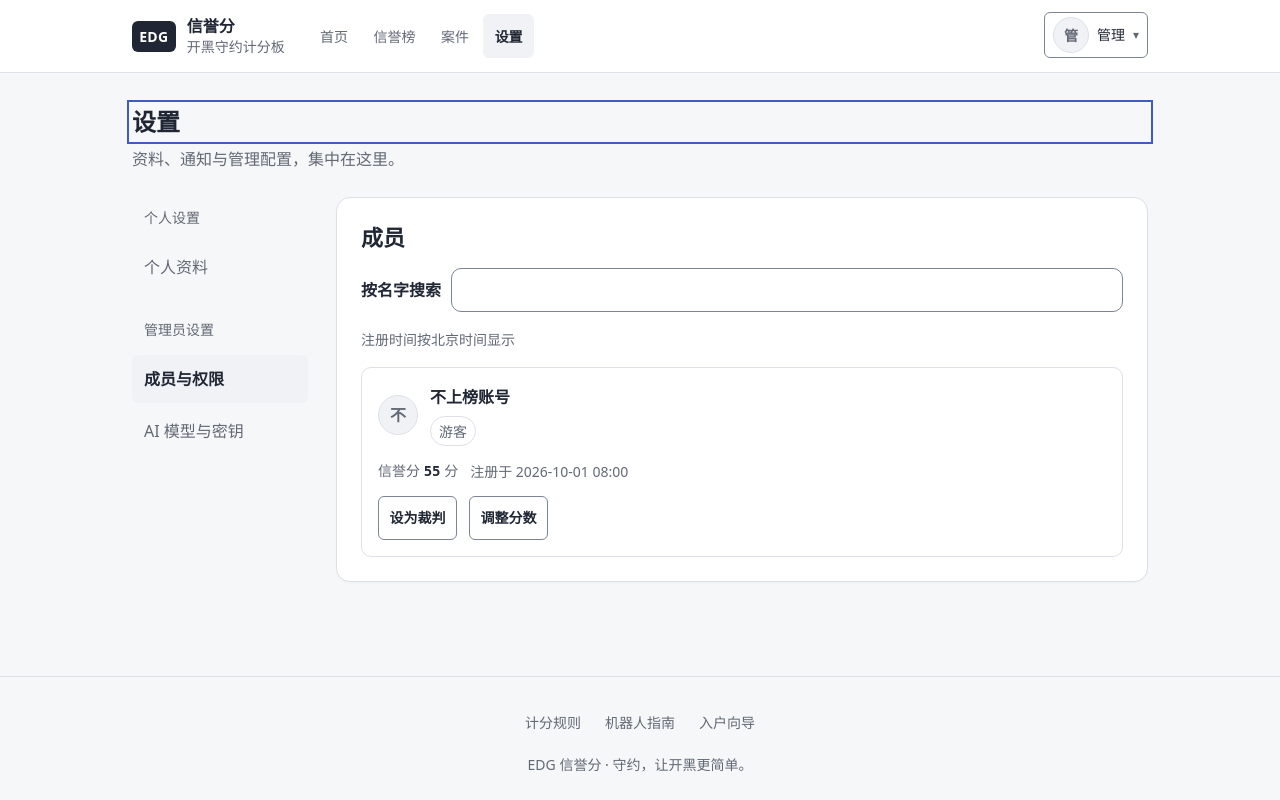
Test: members page inside App › refreshes records, board and me after a member score change
Check: the text "不上榜账号" is shown, box x1=430 y1=384 x2=510 y2=411
Click the link "调整分数".
click(508, 518)  # box x1=469 y1=496 x2=548 y2=540
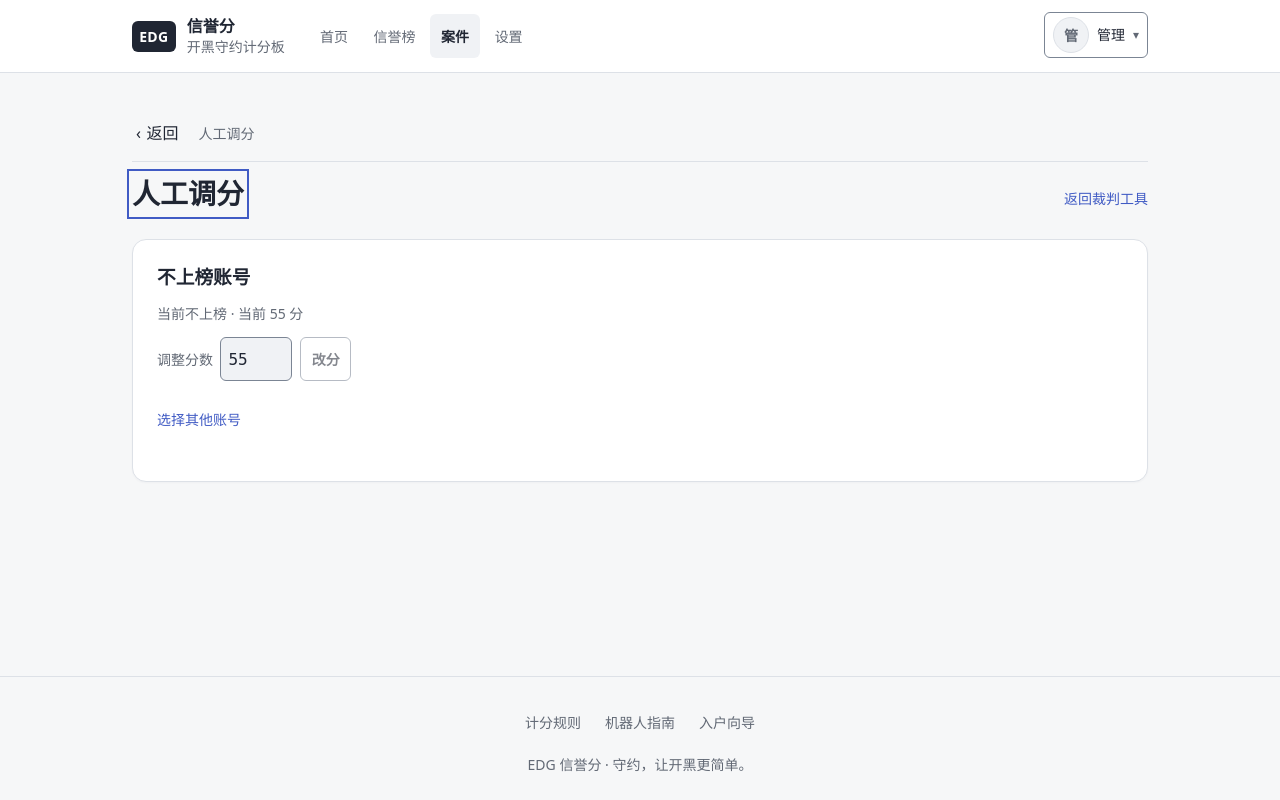
Replace the text in the number field labelled "调整分数" with "75" at (256, 359), box x1=220 y1=337 x2=292 y2=381
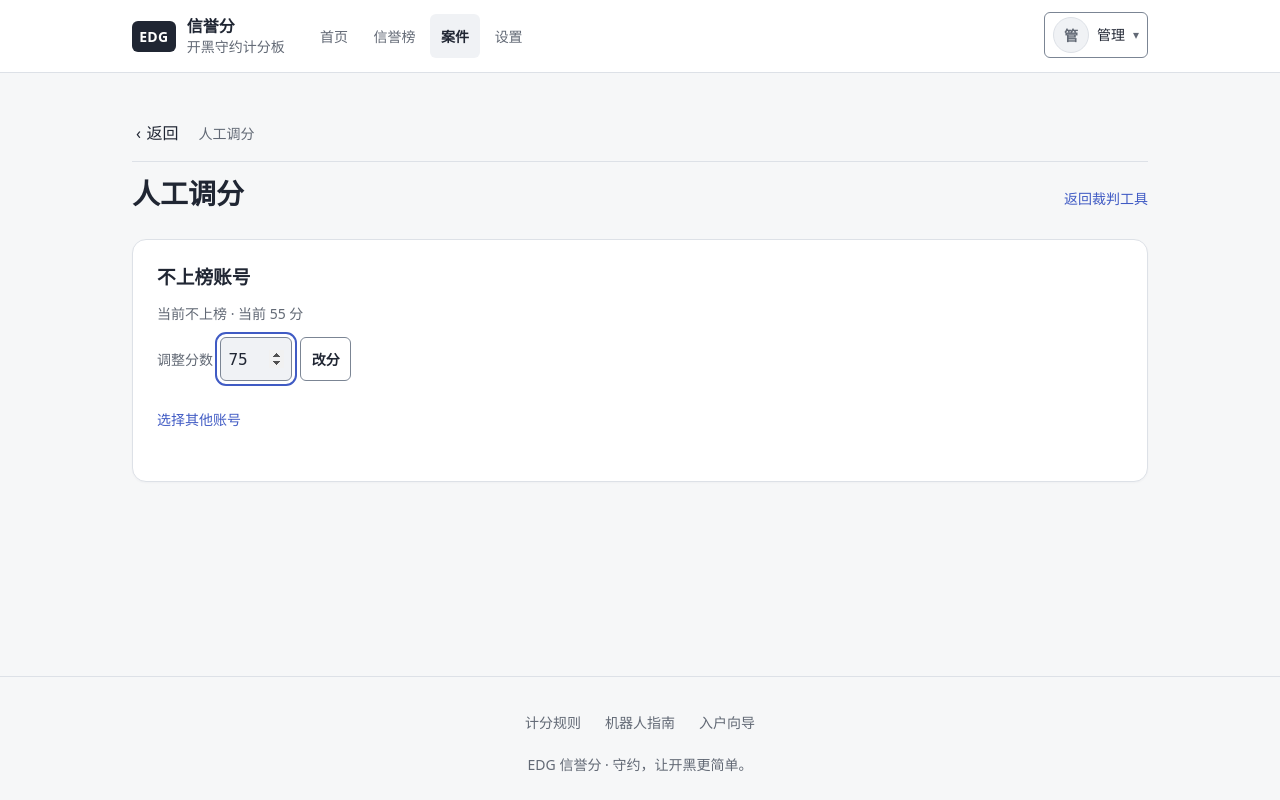
Click the button "改分".
click(326, 359)  # box x1=300 y1=337 x2=351 y2=381
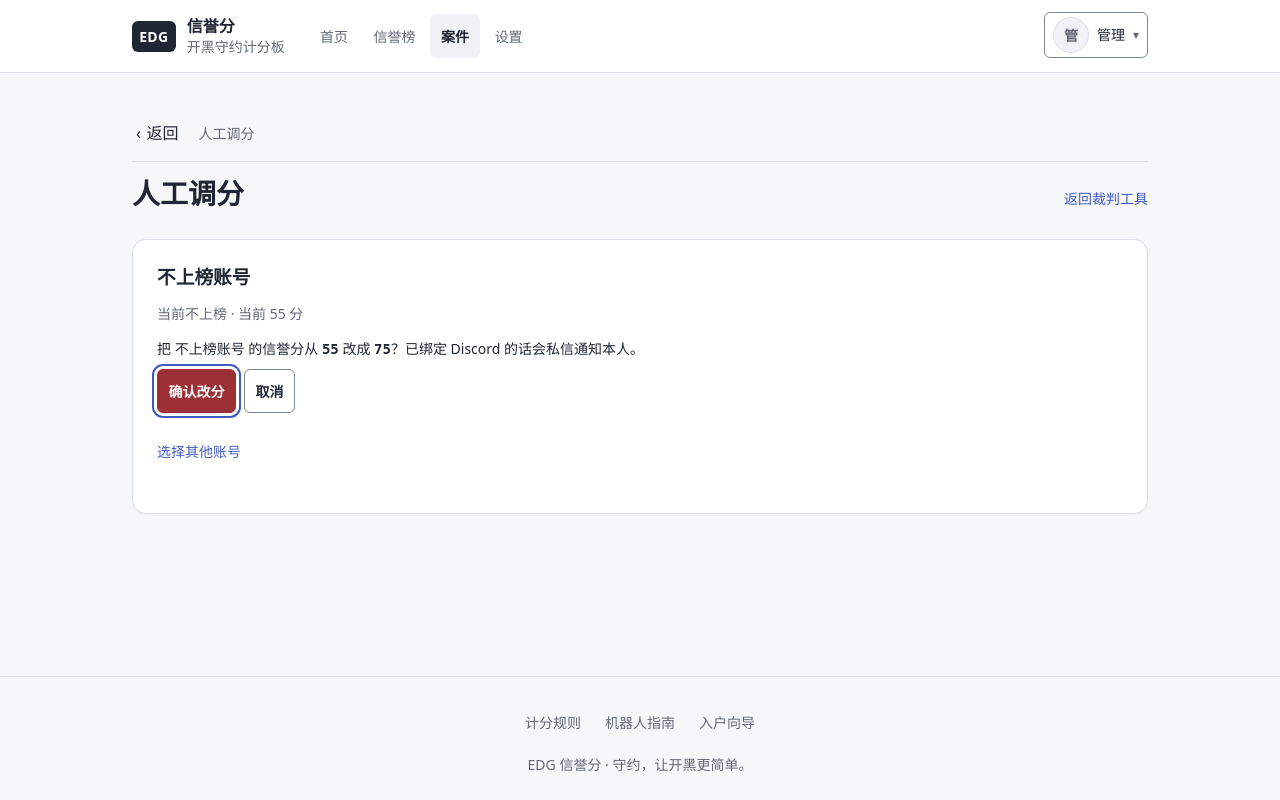
Click the button "确认改分".
click(196, 391)  # box x1=157 y1=369 x2=236 y2=413
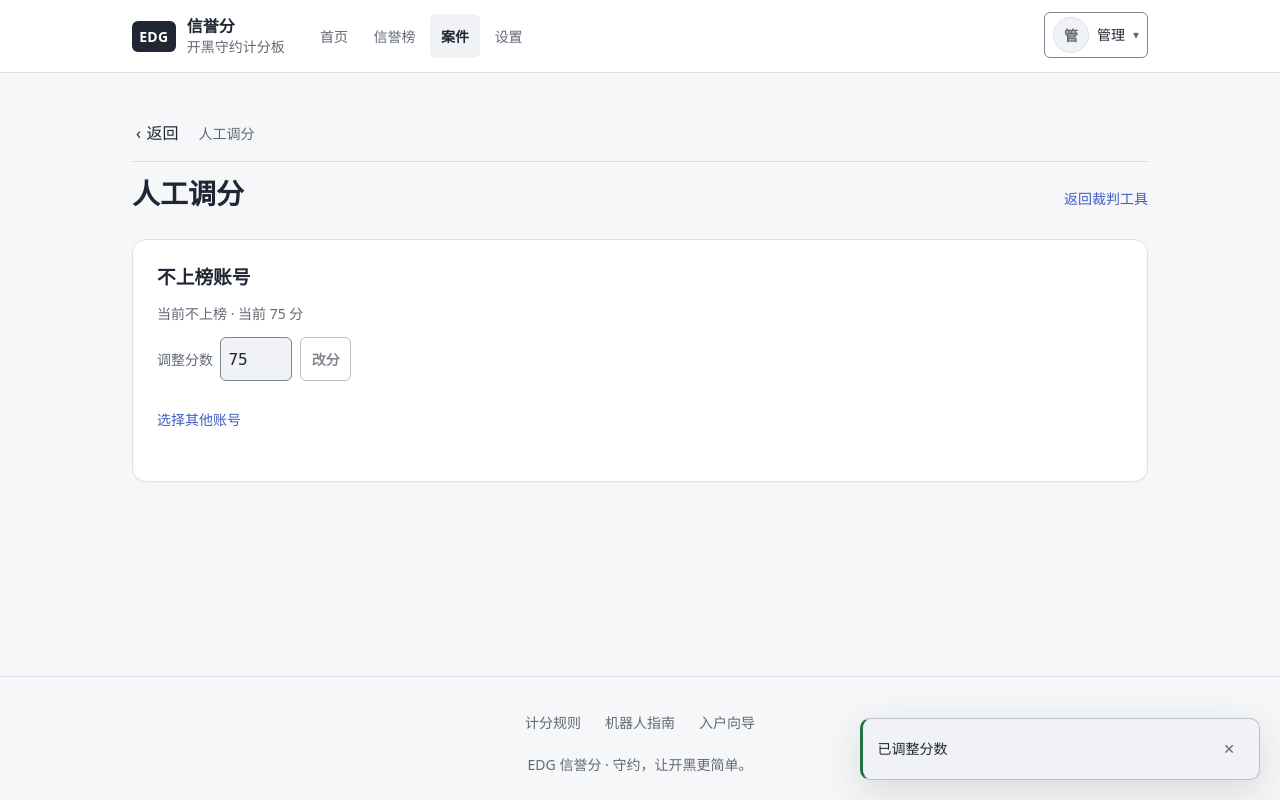
Check: the message with class "toasts" shows "已调整分数", box x1=877 y1=739 x2=947 y2=758
